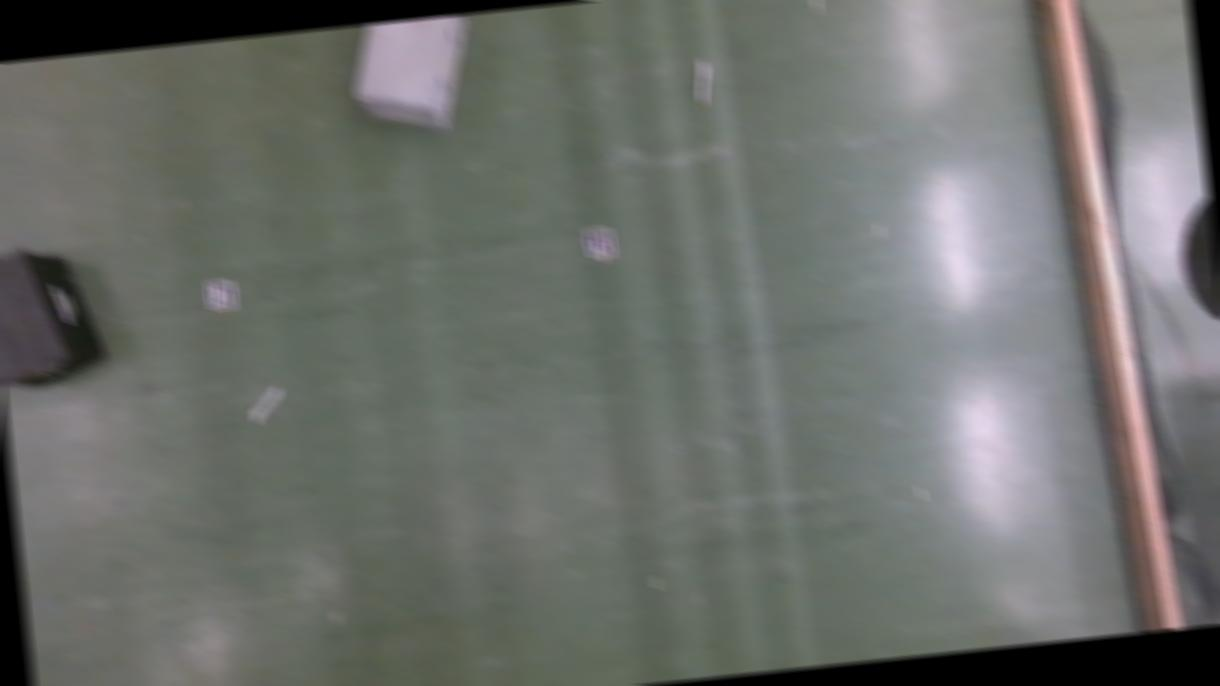probes: (249, 382, 286, 424), (692, 60, 712, 106)
rako: (348, 13, 476, 140), (0, 241, 107, 392)
